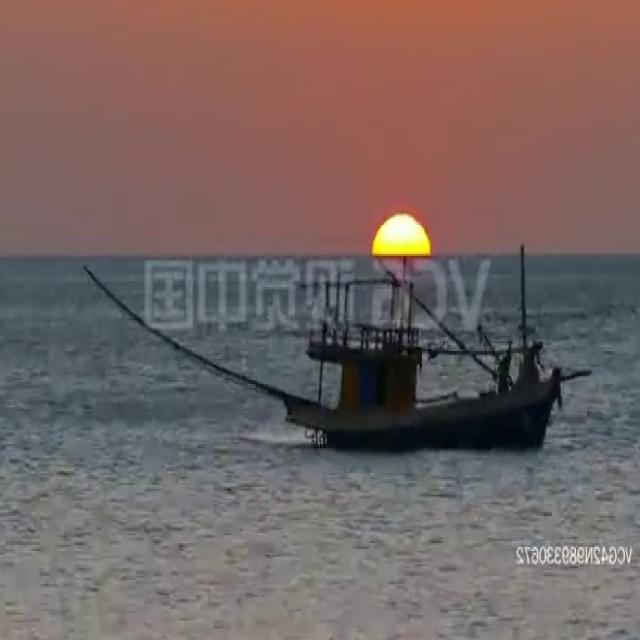fishing boat: (247, 240, 575, 450)
